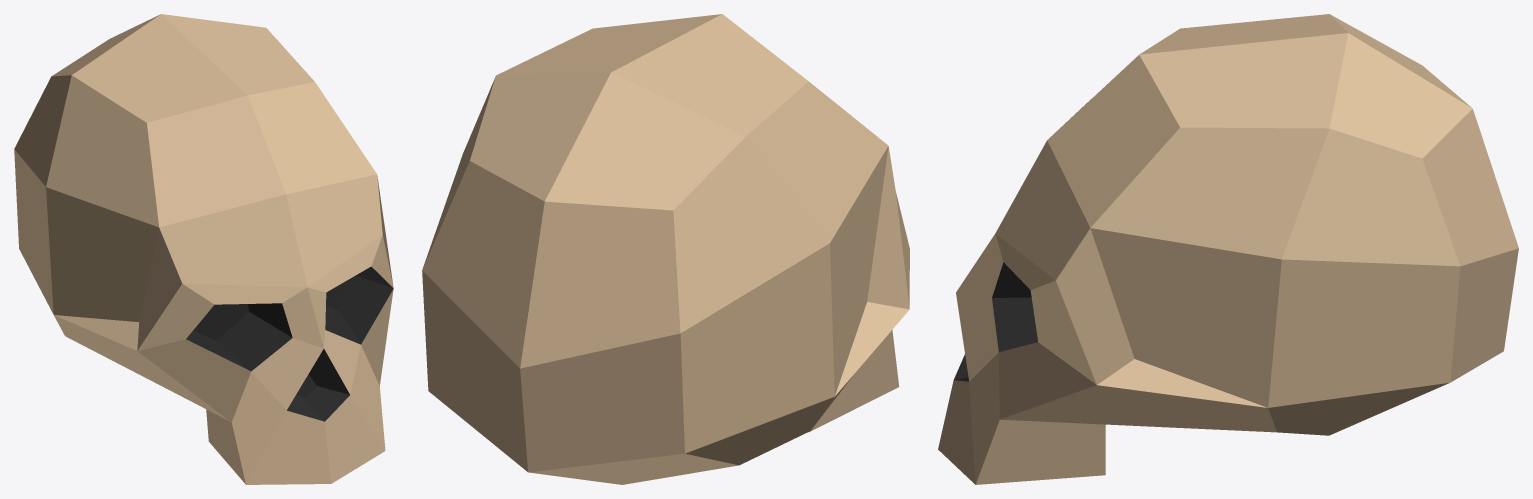
The model's file is skull-human.glb.
3 views of the same model, side by side, from view 1: azimuth 30°, elevation 25°; view 2: azimuth 150°, elevation 25°; view 3: azimuth 270°, elevation 25° (orthographic). The views are drawn at different scales.
Parts seen in each view (by area): view 1: skull-human; view 2: skull-human; view 3: skull-human.
Part boxes in pixels (bbox=[...]): skull-human: bbox=[14, 14, 393, 484]; skull-human: bbox=[422, 14, 909, 484]; skull-human: bbox=[938, 14, 1518, 484].
Size of the model in its own units: 0.3192 by 0.3701 by 0.4662.
1 material, 1 textured.
